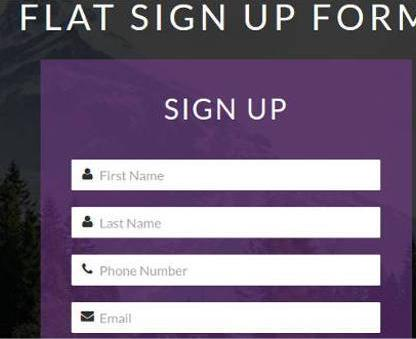field: (70, 301, 383, 335), (70, 158, 382, 192), (70, 205, 381, 238), (71, 255, 382, 286)
